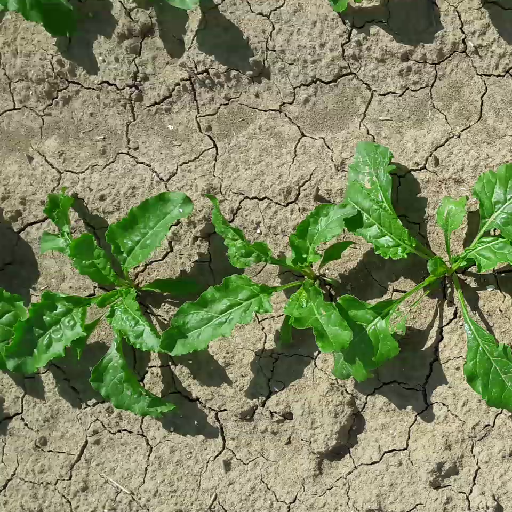sugarbeet: (332, 141, 510, 413), (2, 188, 200, 421), (155, 197, 357, 357)
